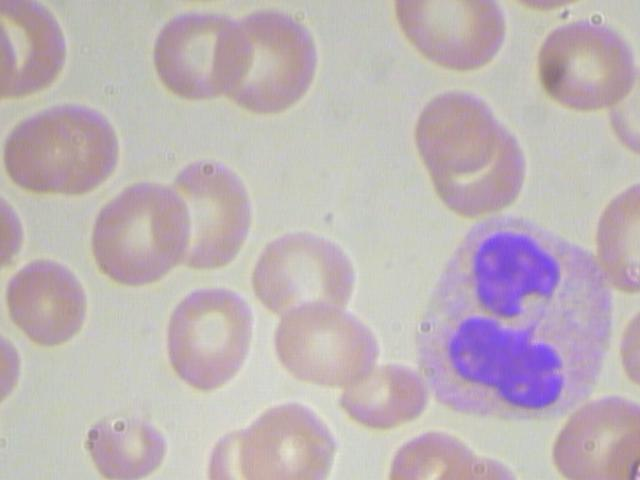RBC: (210, 8, 323, 118), (84, 179, 192, 293), (155, 157, 263, 271), (150, 1, 256, 111), (247, 225, 360, 325), (268, 293, 381, 393), (158, 283, 256, 394), (534, 13, 635, 116), (5, 249, 90, 354), (409, 85, 499, 173), (1, 112, 90, 200), (333, 361, 433, 431), (83, 399, 166, 480)
